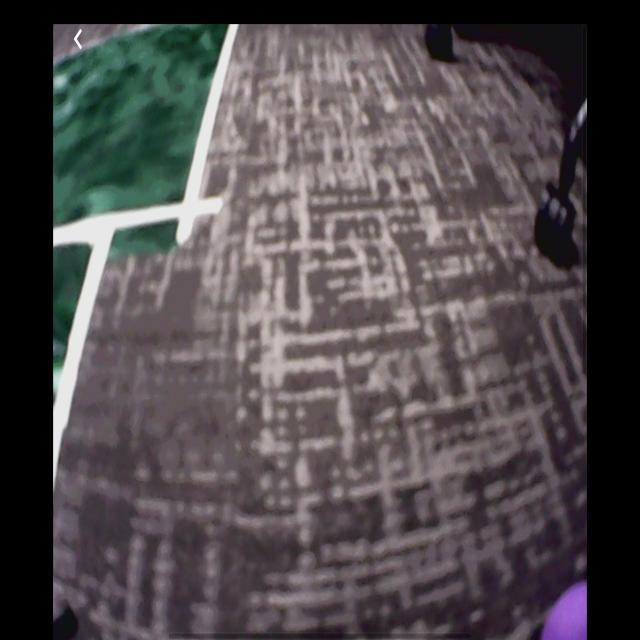ball: (541, 580, 588, 640)
